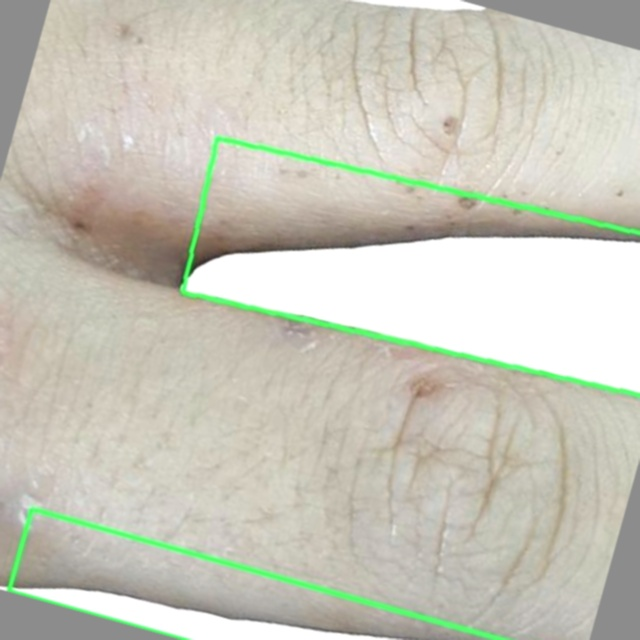Scabies: (182, 138, 639, 395)
